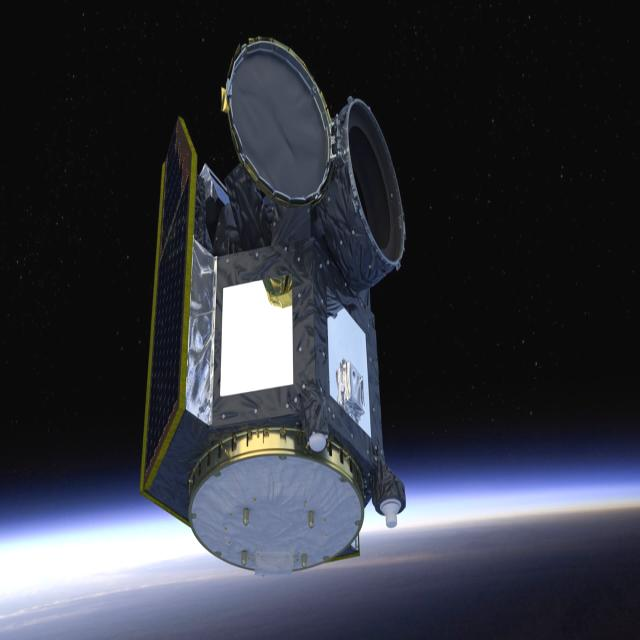satellite: (136, 18, 415, 590)
